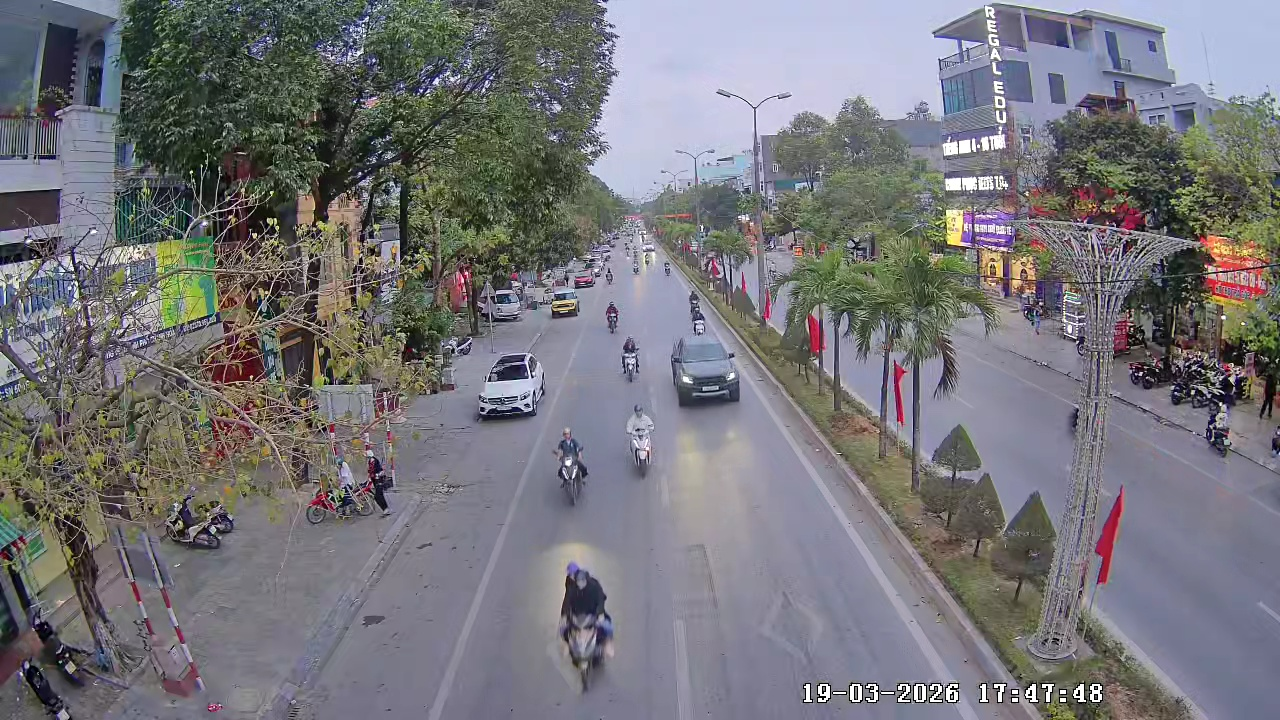car: (668, 332, 742, 406), (476, 351, 547, 419), (550, 287, 580, 318)
motorbike: (556, 558, 617, 694), (552, 425, 590, 507), (624, 402, 657, 479), (1205, 400, 1234, 460), (619, 335, 642, 384), (604, 300, 621, 335), (689, 305, 705, 337)
